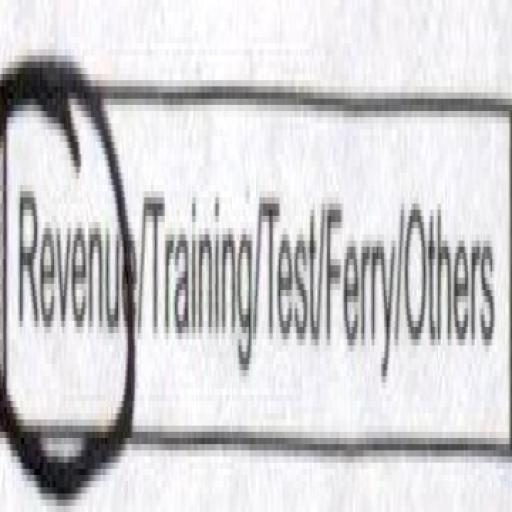check: (0, 6, 137, 512)
